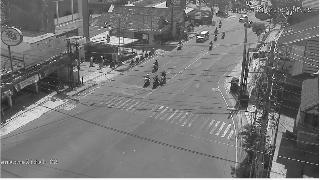mobil: (193, 29, 211, 45)
motor: (138, 74, 152, 90), (148, 58, 160, 74), (160, 70, 168, 88), (152, 76, 160, 90), (174, 41, 184, 51), (207, 42, 215, 54)
